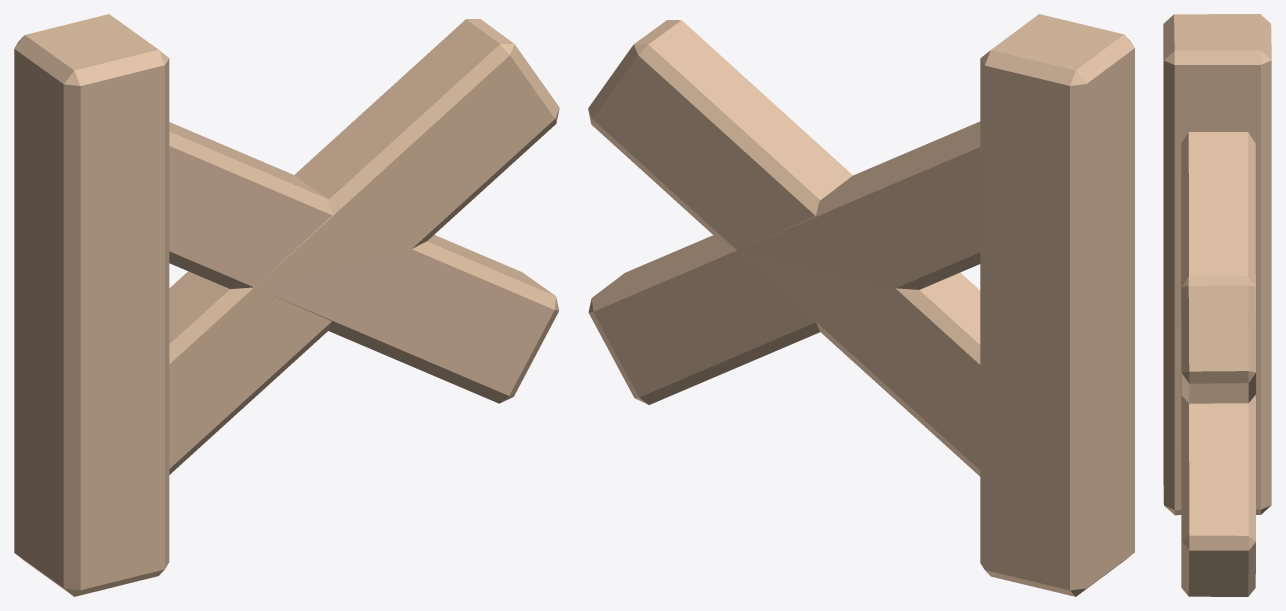
File: fence_2.fbx
3 views of the same model, side by side, from view 1: azimuth 30°, elevation 25°; view 2: azimuth 150°, elevation 25°; view 3: azimuth 270°, elevation 25° (orthographic). The views are drawn at different scales.
Visible parts, largest first — view 1: fence_2; view 2: fence_2; view 3: fence_2.
Part boxes in pixels (box(x1,y1,x2,y2)): fence_2: box(14, 14, 559, 596); fence_2: box(588, 14, 1134, 596); fence_2: box(1163, 14, 1271, 596).
Bounding box in the file's own units: 111 × 110 × 23.37.
